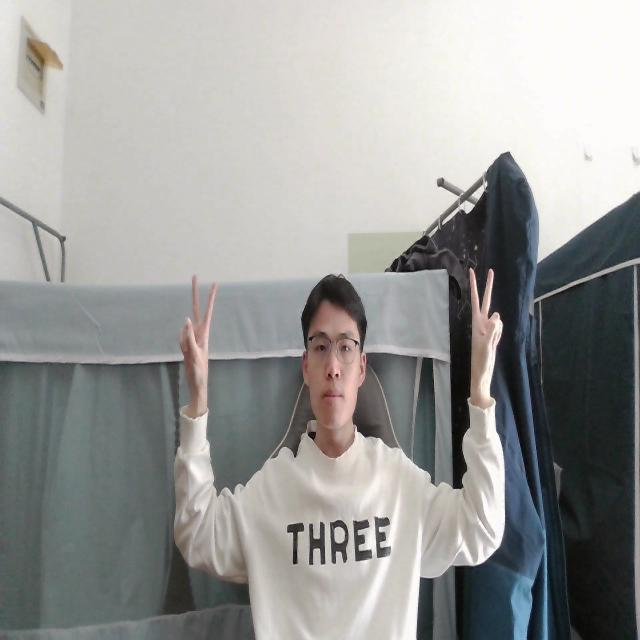yes: (178, 273, 217, 410), (467, 263, 502, 407)
